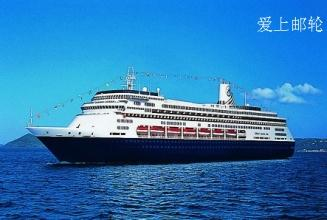youlun: (22, 72, 293, 164)
